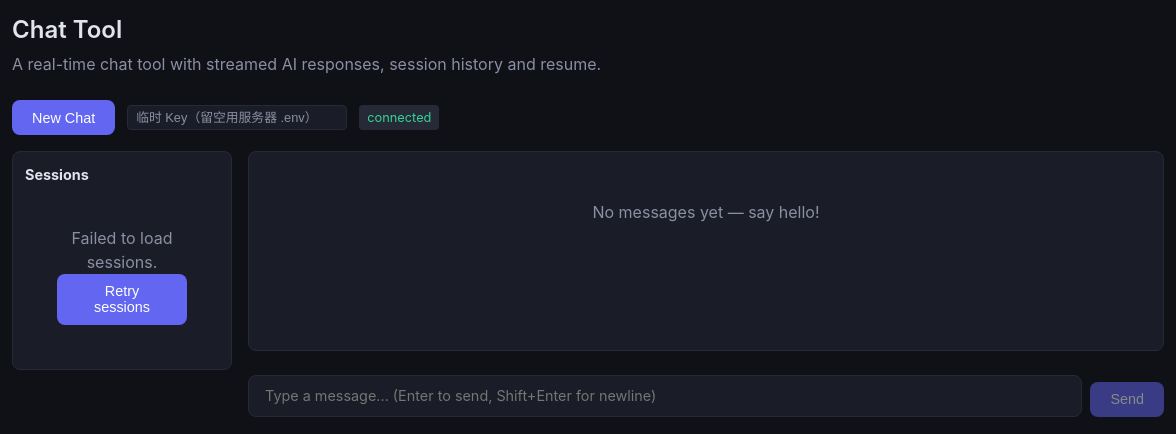
Test case: ChatToolPlugin load errors › shows a retryable session-list error instead of an empty state
expect the text "Failed to load sessions." is shown: met, box top-left (72, 228), bottom-right (172, 272)
Click the button "Retry sessions" at {"x": 122, "y": 299}, box top-left (57, 274), bottom-right (187, 325)
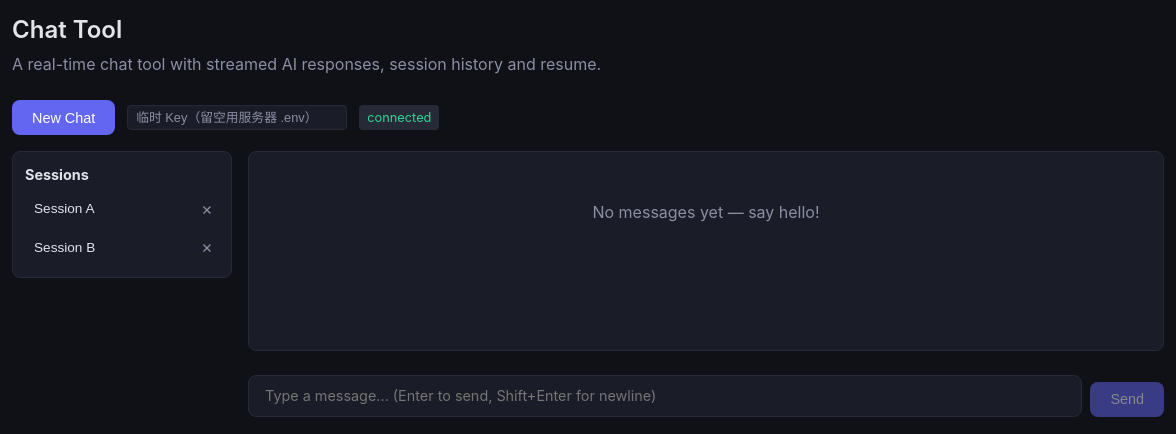
expect the button "Session A" is shown: met, box top-left (25, 194), bottom-right (191, 226)
